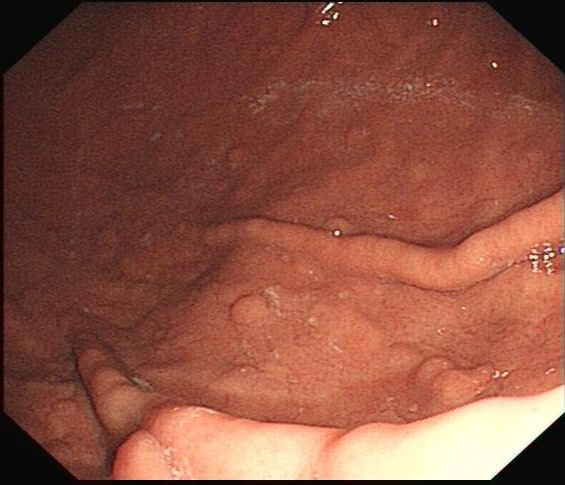Polyp: (413, 353, 497, 405), (111, 426, 169, 479)
